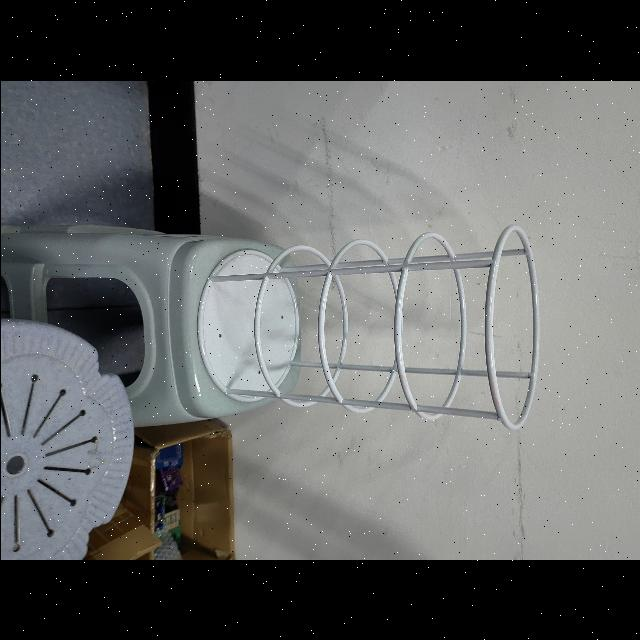S: (191, 222, 543, 433)
